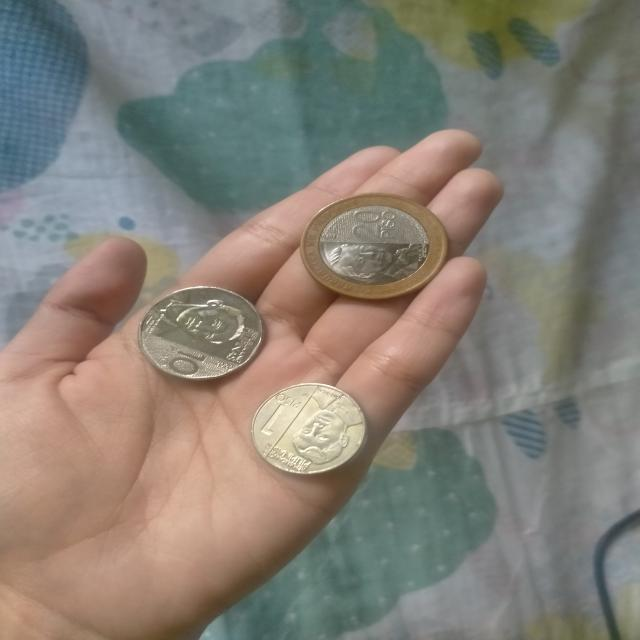10_New_Front: (146, 343, 215, 378)
1_New_Front: (257, 391, 312, 438)
20_New_Front: (337, 206, 406, 243)
